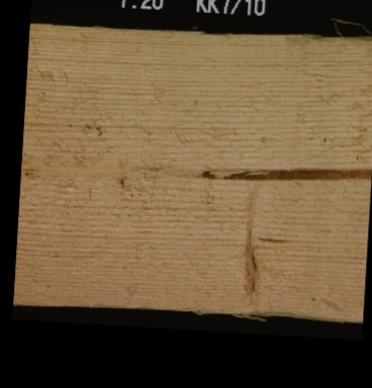small_knot: (107, 166, 135, 189), (20, 161, 46, 185)
